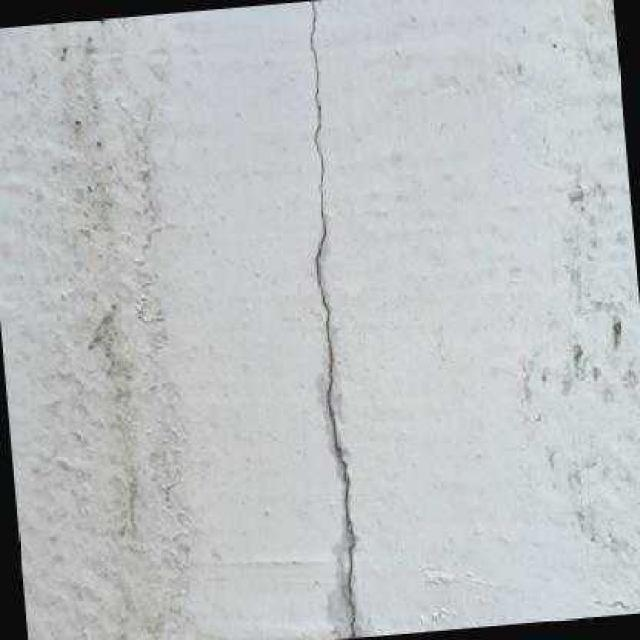D00: (306, 0, 357, 639)
